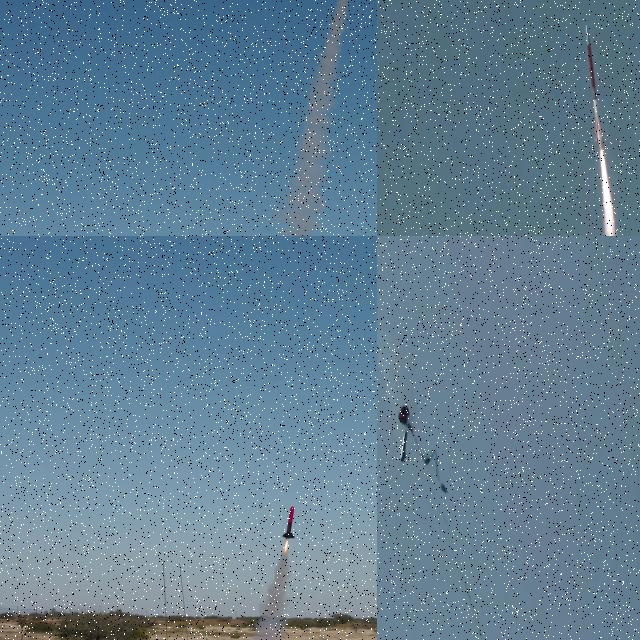Rocket: (586, 25, 602, 152), (282, 506, 295, 540)
